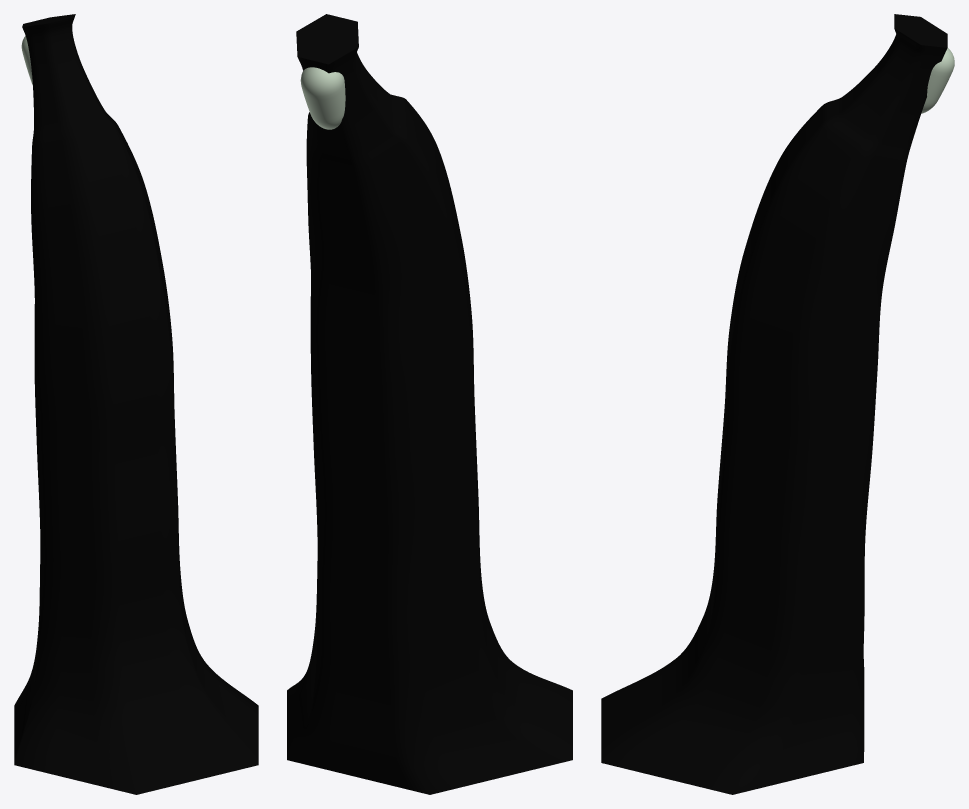
Rendered from blackmage.fbx.
The picture shows the model from 3 angles, left to right: view 1: azimuth 30°, elevation 25°; view 2: azimuth 150°, elevation 25°; view 3: azimuth 270°, elevation 25°; orthographic projection. The views are drawn at different scales.
Parts seen in each view (by area): view 1: Loft; view 2: Loft, Cap_2, Capsule; view 3: Loft, Cap_2, Capsule.
Boxes of the visible parts, left/top/right/bottom form: Loft: left=14, top=17, right=258, bottom=794; Loft: left=287, top=47, right=572, bottom=794; Cap_2: left=296, top=14, right=358, bottom=64; Capsule: left=300, top=67, right=345, bottom=129; Loft: left=601, top=28, right=947, bottom=794; Cap_2: left=894, top=14, right=947, bottom=47; Capsule: left=921, top=48, right=954, bottom=113.
Size of the model in its own units: 141 by 364 by 164.
